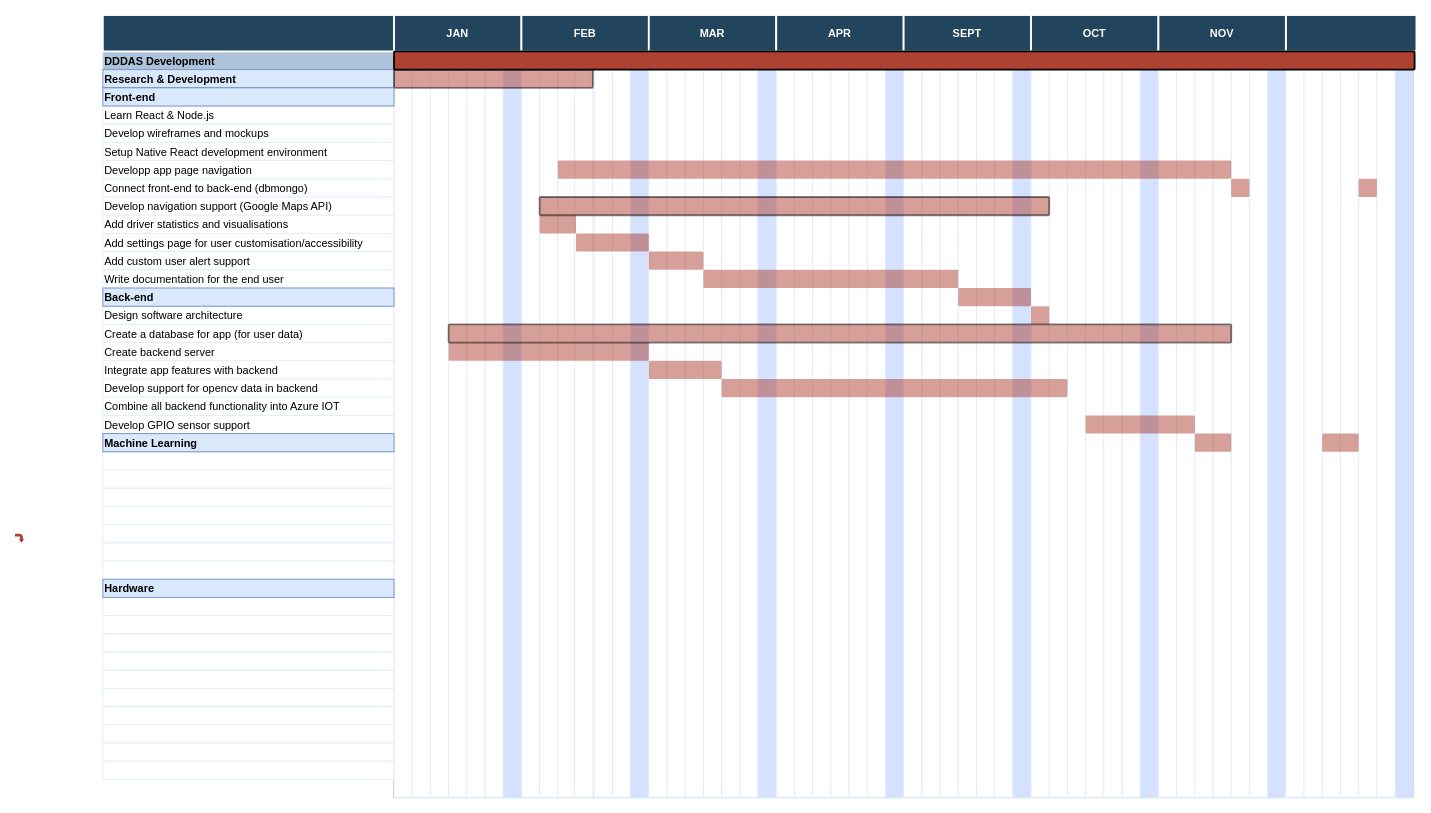
The diagram is 1431 pixels wide and 813 high, and some of its shapes have lost their labels. Each missing label, with the centre of its shape:
"DEC" goes at (1350,33).
"Task Name" goes at (247,33).
